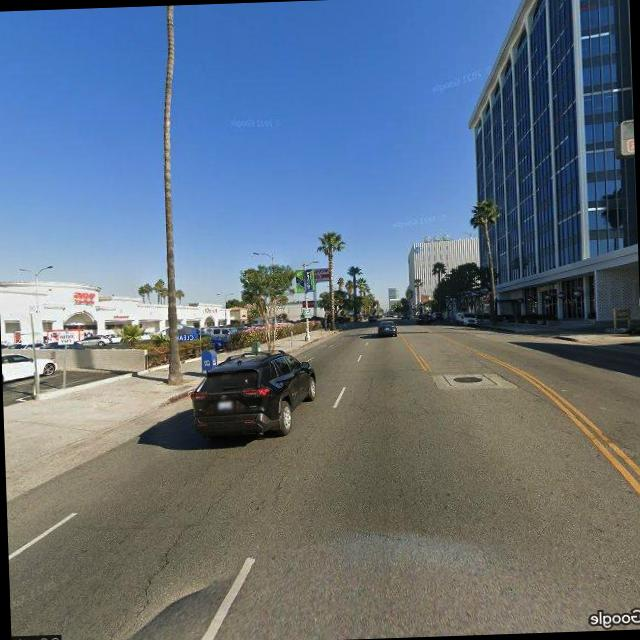pothole: (110, 446, 272, 632), (268, 432, 312, 508)
